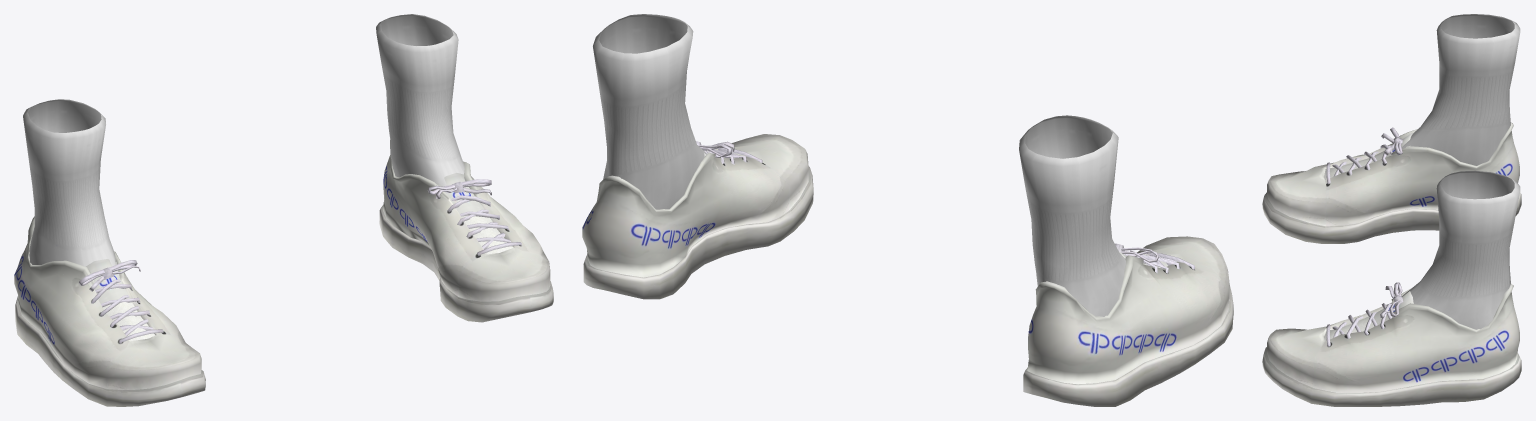
Rendered from punkduck-tennis-shoes.glb.
The picture shows the model from 3 angles, left to right: view 1: azimuth 30°, elevation 25°; view 2: azimuth 150°, elevation 25°; view 3: azimuth 270°, elevation 25°; orthographic projection. The views are drawn at different scales.
Parts seen in each view (by area): view 1: Human.punkduck_tennis_shoes; view 2: Human.punkduck_tennis_shoes; view 3: Human.punkduck_tennis_shoes.
Part boxes in pixels (box(x1,y1,x2,y2)): Human.punkduck_tennis_shoes: box(14, 14, 553, 406); Human.punkduck_tennis_shoes: box(582, 14, 1233, 406); Human.punkduck_tennis_shoes: box(1262, 14, 1521, 406).
Bounding box in the file's own units: 0.4357 × 0.1956 × 0.2293.
Materials: 1 (1 with a texture image).
